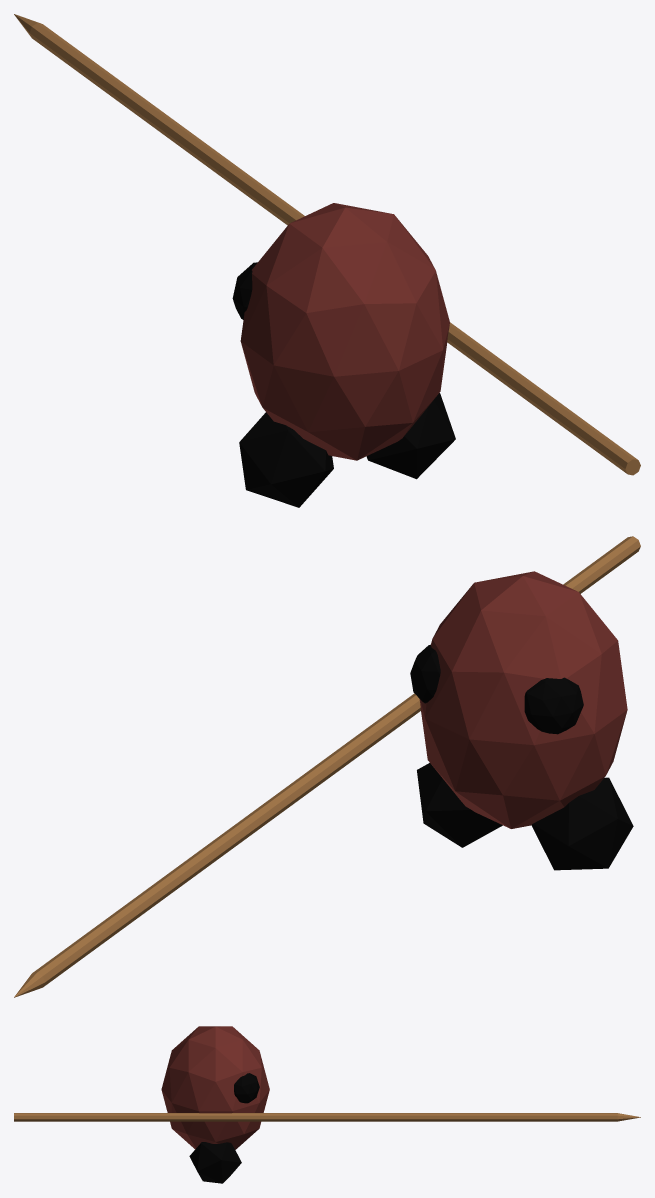
The model's file is stab.f0023.glb.
3 renders of one model, top to bottom at view 1: azimuth 30°, elevation 25°; view 2: azimuth 150°, elevation 25°; view 3: azimuth 270°, elevation 25°, orthographic. The views are drawn at different scales.
Visible parts, largest first — view 1: Body.001; view 2: Body.001; view 3: Body.001.
Boxes of the visible parts, x1=… form: Body.001: x1=14, y1=14, x2=640, y2=507; Body.001: x1=14, y1=536, x2=640, y2=997; Body.001: x1=14, y1=1026, x2=640, y2=1183.
Bounding box in the file's own units: 2.17 × 2.85 × 11.56.
1 material, 1 textured.
